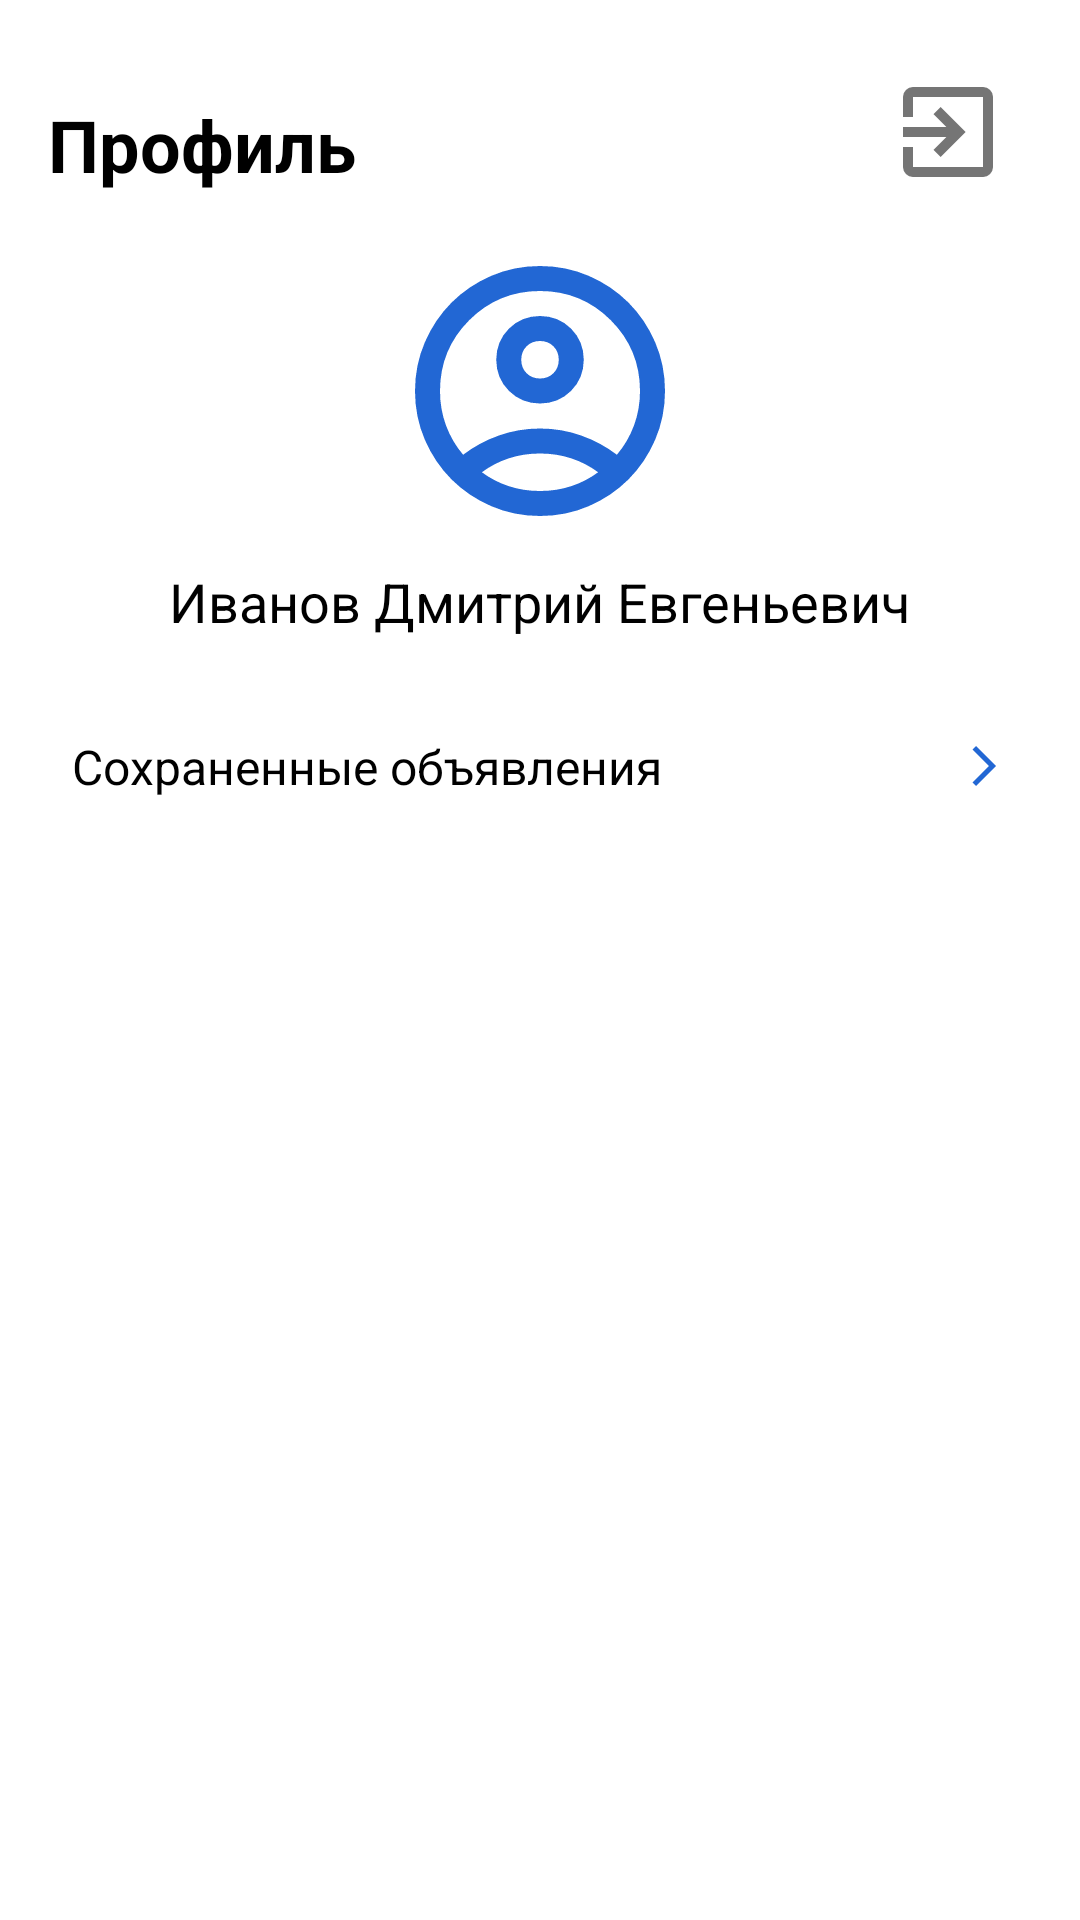

Icons on this 1080×1920 Android screen, each with its box as BBox(x1, y1, x2, y2):
person: BBox(415, 266, 665, 516)
